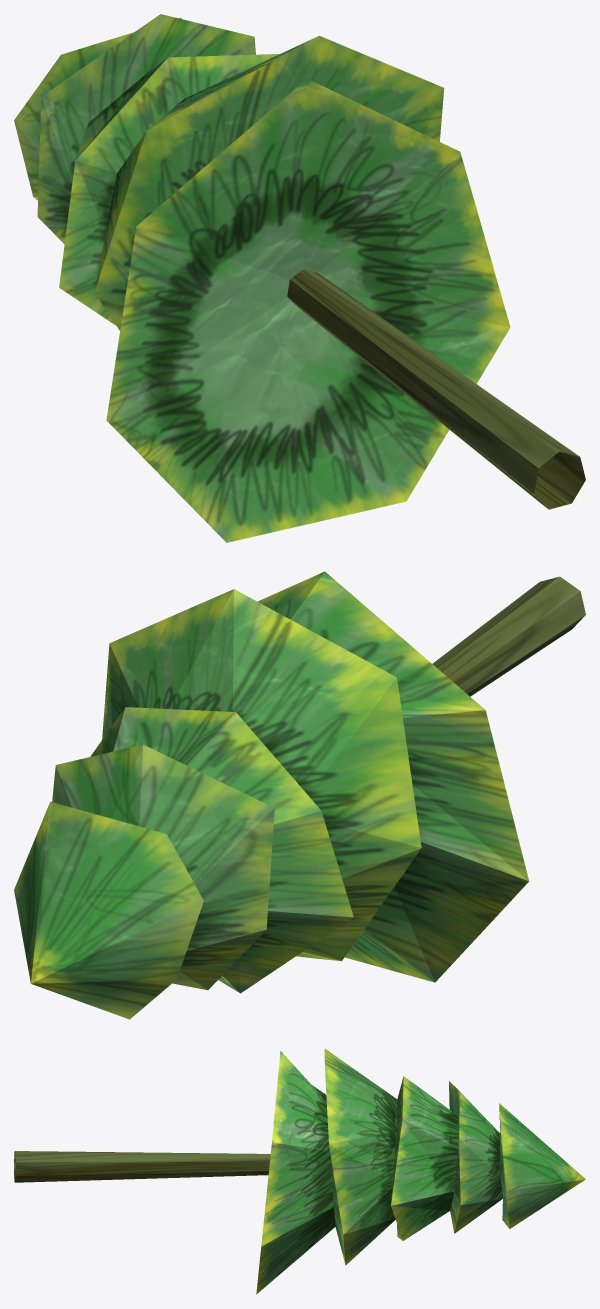
Rendered from toontree.FBX.
3 renders of one model, top to bottom at view 1: azimuth 30°, elevation 25°; view 2: azimuth 150°, elevation 25°; view 3: azimuth 270°, elevation 25°, orthographic. The views are drawn at different scales.
Visible parts, largest first — view 1: tree- fat; view 2: tree- fat; view 3: tree- fat.
Boxes of the visible parts, bbox=[...] form: tree- fat: bbox=[14, 14, 585, 542]; tree- fat: bbox=[14, 571, 585, 1019]; tree- fat: bbox=[14, 1048, 585, 1294].
Size of the model in its own units: 4.71 by 4.88 by 11.22.
